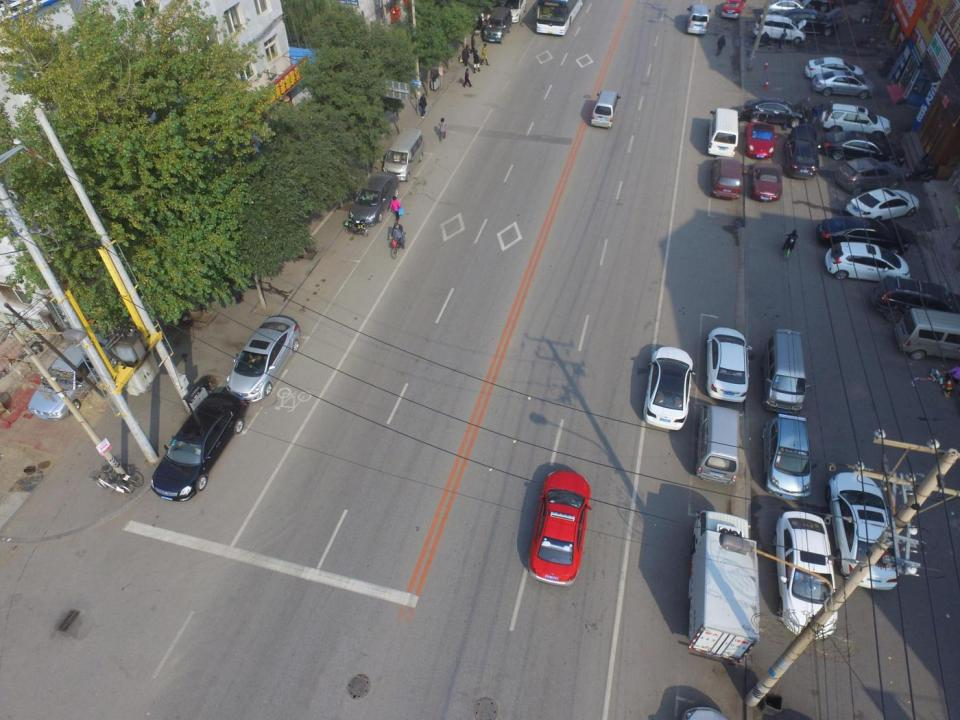bus: (533, 0, 583, 37)
car: (150, 392, 250, 502), (824, 472, 899, 592), (771, 510, 838, 641), (28, 330, 120, 422), (528, 470, 592, 586), (226, 316, 300, 403), (764, 412, 818, 501), (642, 346, 696, 431), (871, 274, 960, 323), (703, 326, 753, 404), (824, 240, 911, 284), (816, 216, 911, 256), (822, 130, 905, 167), (348, 169, 400, 227), (845, 186, 920, 224), (835, 155, 903, 196), (820, 103, 892, 138), (741, 95, 812, 129), (784, 124, 821, 180), (774, 7, 844, 36), (813, 71, 877, 100), (752, 14, 808, 46), (805, 56, 865, 82), (710, 156, 744, 201), (749, 161, 784, 204), (746, 121, 778, 160), (763, 0, 820, 18), (503, 0, 527, 23), (720, 0, 746, 19)
truck: (687, 511, 760, 666)
van: (761, 328, 811, 416), (894, 307, 960, 362), (696, 403, 740, 485), (382, 127, 424, 182), (707, 107, 740, 158), (590, 89, 622, 129), (484, 6, 512, 44), (686, 3, 712, 35)
